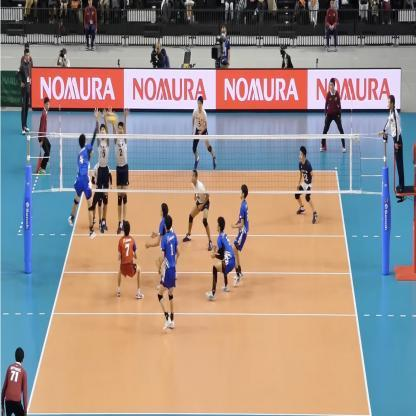spike: (66, 108, 103, 241)
